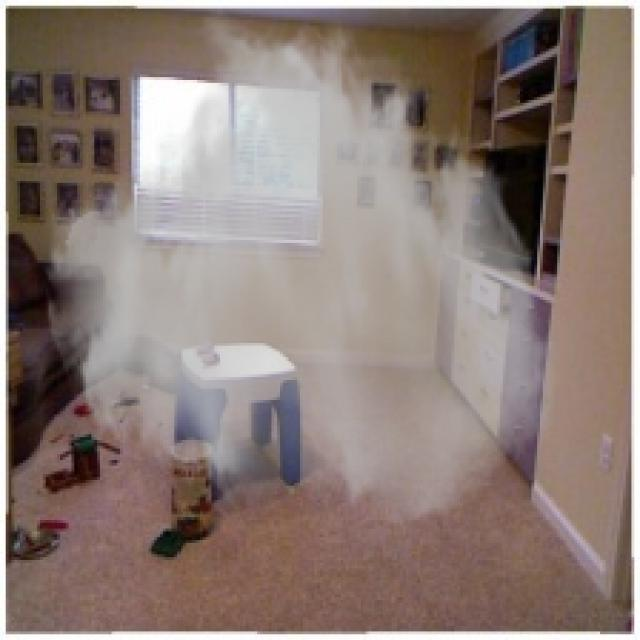Smoke: (40, 6, 560, 528)
